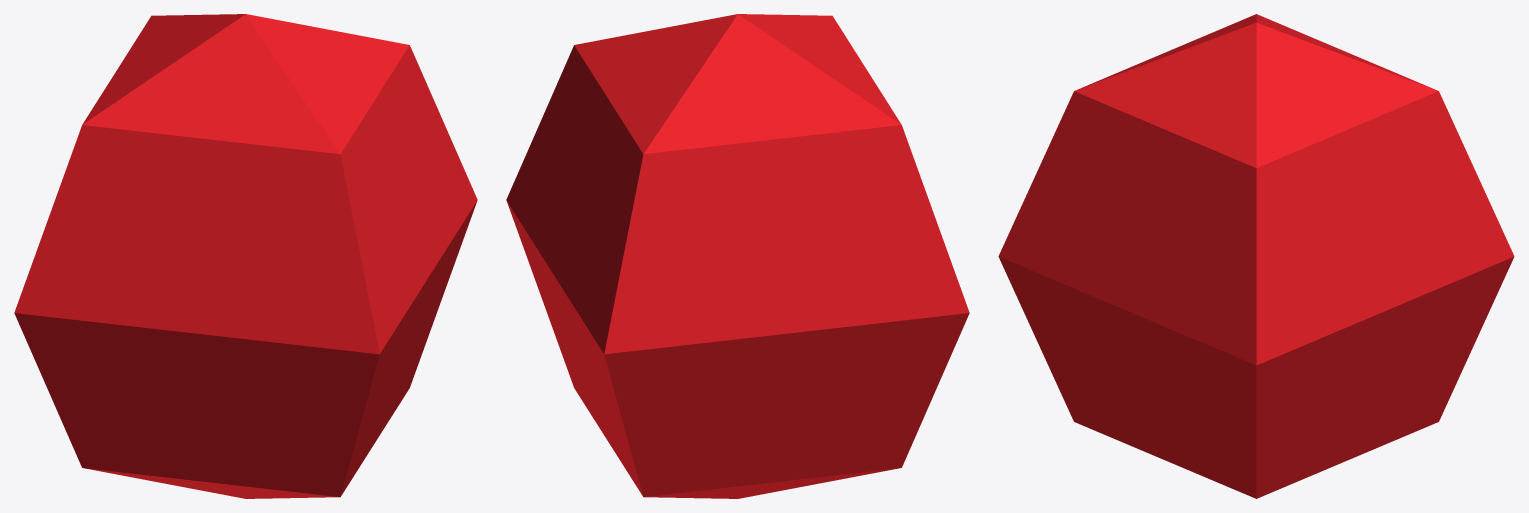
Rendered from Skeletal_Mesh.fbx.
3 renders of one model, left to right at view 1: azimuth 30°, elevation 25°; view 2: azimuth 150°, elevation 25°; view 3: azimuth 270°, elevation 25°, orthographic. The views are drawn at different scales.
Visible parts, largest first — view 1: Sphere; view 2: Sphere; view 3: Sphere.
Part boxes in pixels (bbox=[...]): Sphere: bbox=[14, 14, 477, 498]; Sphere: bbox=[506, 14, 969, 498]; Sphere: bbox=[998, 14, 1514, 498].
Size of the model in its own units: 200 by 200 by 200.
Materials: 1 (1 with a texture image).
